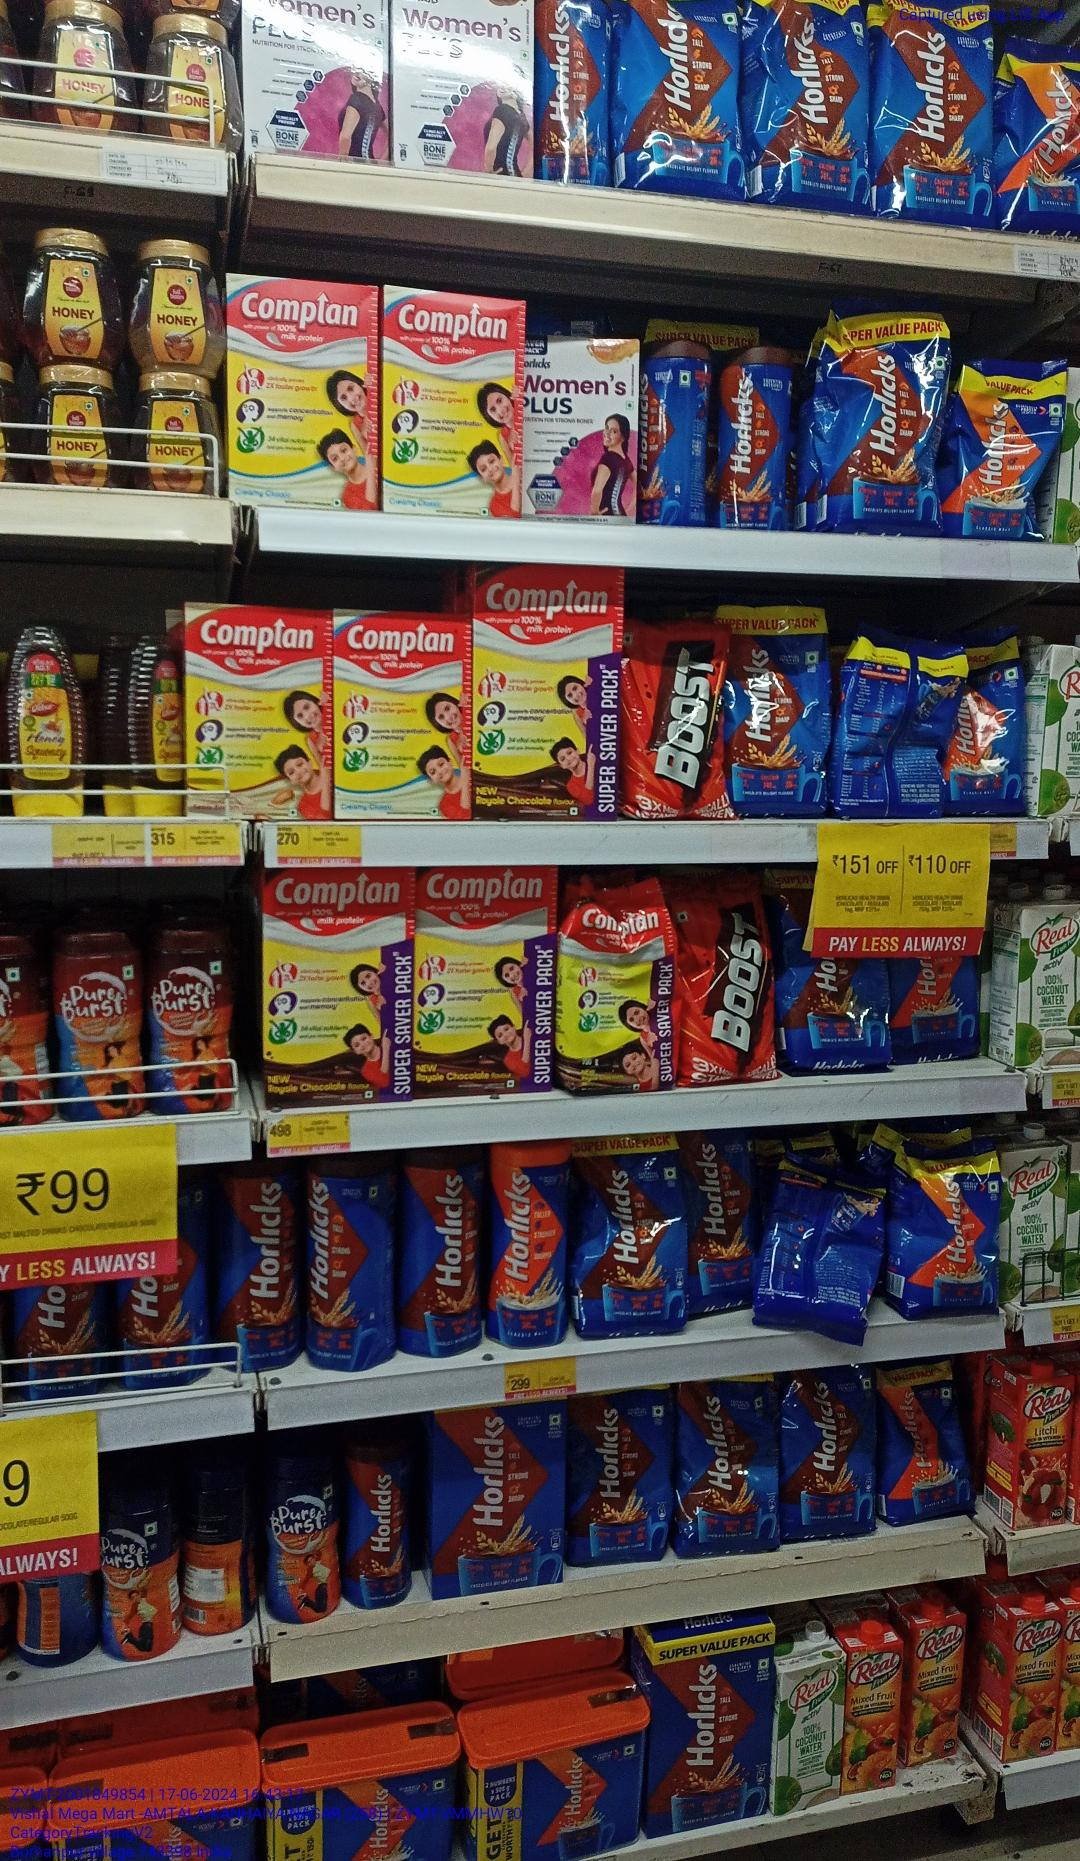COMPLAN_CHOCOLATE_1_KG_PACK: (262, 870, 417, 1110), (477, 560, 618, 819), (418, 870, 553, 1096)
COMPLAN_CREAMY_CLASSIC_500_G_PACK: (231, 274, 375, 510), (382, 290, 522, 515), (337, 614, 473, 819)
COMPLAN_KESAR_BADAM_500_GMS_PACK: (184, 605, 330, 817)
COMPLAN_RC_POUCH_700_GMS_12: (559, 879, 680, 1096)
HORLICK_CHOCOLATE_1_KG_JAR: (537, 0, 606, 180)
HORLICK_CHOCOLATE_1_KG_PACK: (648, 1630, 769, 1824)
HORLICK_CHOCOLATE_200_G_JAR: (348, 1434, 413, 1610)
HORLICK_CHOCOLATE_500_G_JAR: (226, 1163, 305, 1373), (408, 1154, 486, 1353), (312, 1158, 387, 1364), (717, 347, 788, 527), (640, 337, 707, 522)
HORLICK_CHOCOLATE_500_G_PACK: (432, 1410, 570, 1596)
HORLICK_CHOCOLATE_750_G_POUCH: (833, 301, 946, 536), (872, 3, 990, 220), (746, 0, 867, 209), (617, 0, 739, 191), (580, 1134, 683, 1334), (678, 1378, 778, 1558), (575, 1385, 674, 1556), (783, 1370, 872, 1536)
HORLICK_CLASSIC_MALT_750_G_POUCH: (891, 1146, 998, 1316), (879, 1361, 973, 1517)
HORLICK_MALT_1_KG_CONTAINER: (471, 1693, 640, 1861), (269, 1711, 451, 1861)
